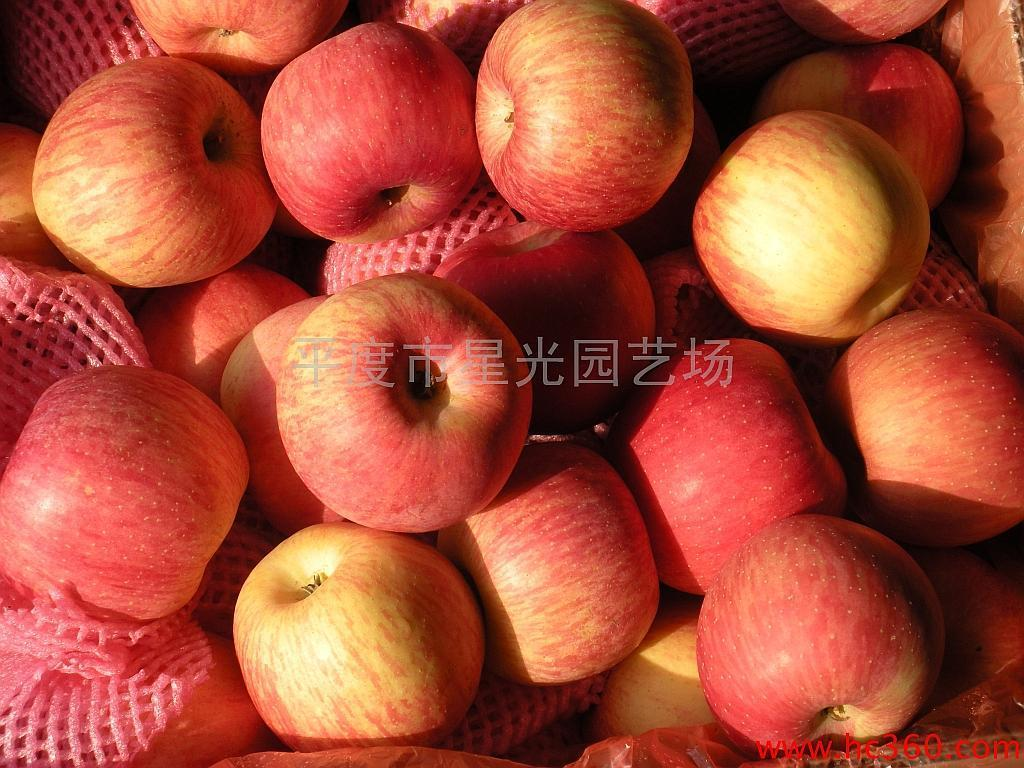apple: (252, 274, 524, 521), (1, 365, 251, 622), (609, 336, 843, 596), (692, 511, 946, 749), (24, 57, 279, 294), (689, 105, 935, 342), (229, 523, 483, 750), (468, 1, 698, 235), (256, 14, 482, 244), (445, 457, 660, 681), (436, 221, 657, 433), (814, 312, 1015, 545), (730, 39, 959, 232)
